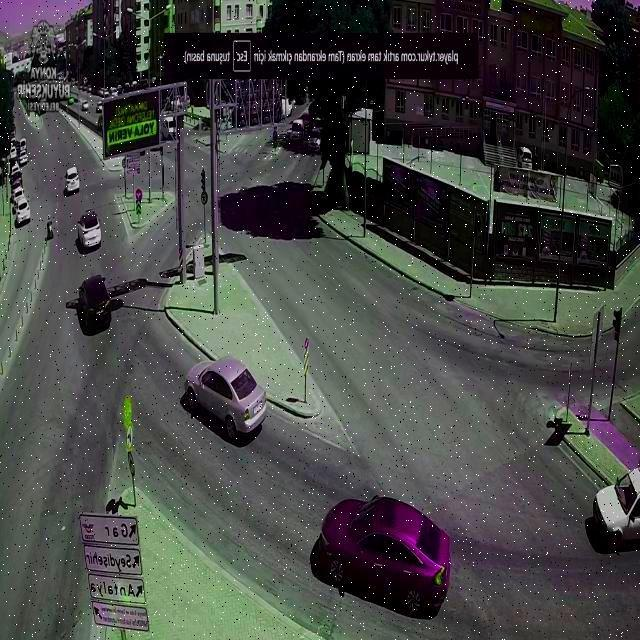Car: (316, 495, 453, 614), (186, 355, 268, 434), (76, 274, 113, 334), (75, 213, 104, 248), (13, 196, 31, 225), (64, 166, 80, 193)
